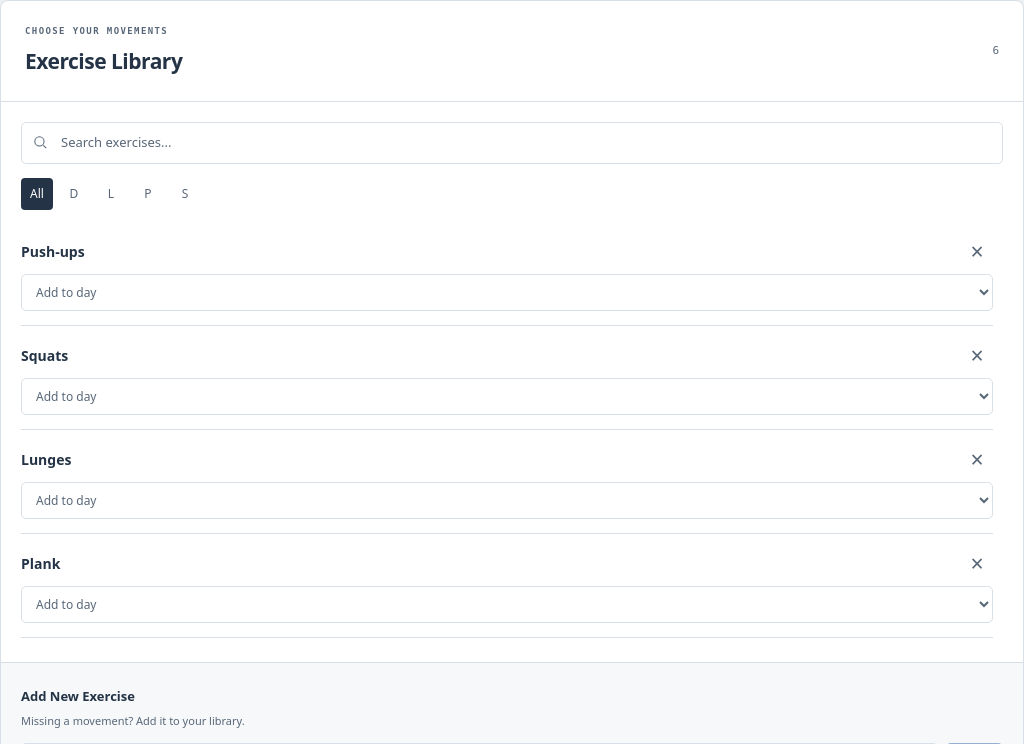
Scenario: Exercise List Component › When user clicks a category button
The width and height of the screenshot is (1024, 744).
What coordinates should you click on to do the following:
click the button "P"
I would click on:
 (148, 194)
Its box is 132,178 -> 164,210.
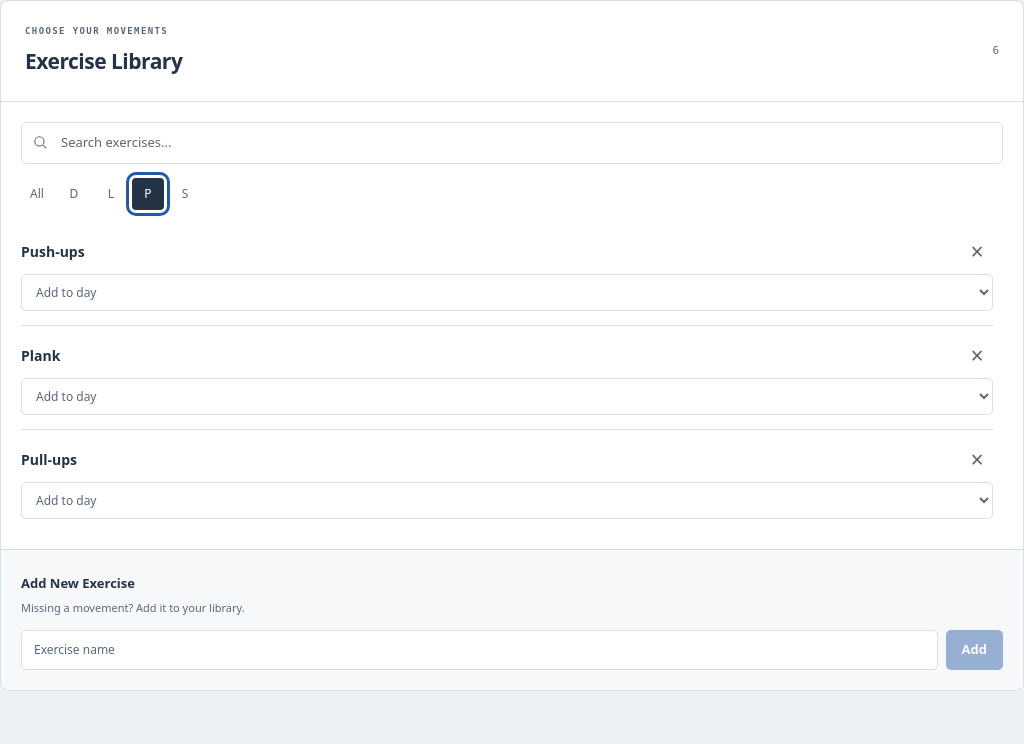
Now the text "Pull-ups" is shown, box 21,449 -> 77,470
Now the text "Squats" is gone
Now the text "Lunges" is gone
